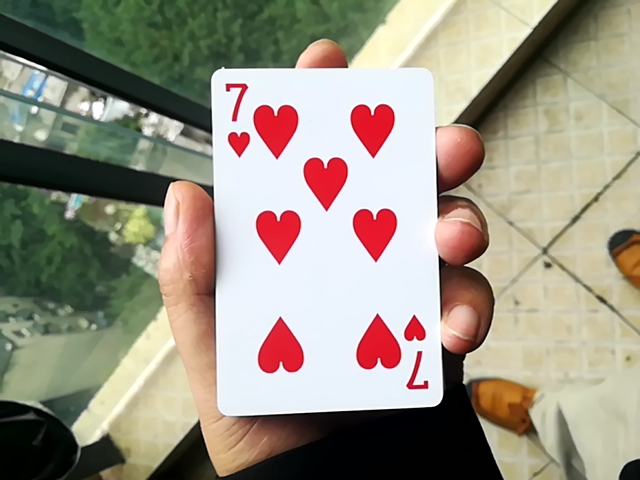hx 7: (200, 47, 437, 423)
